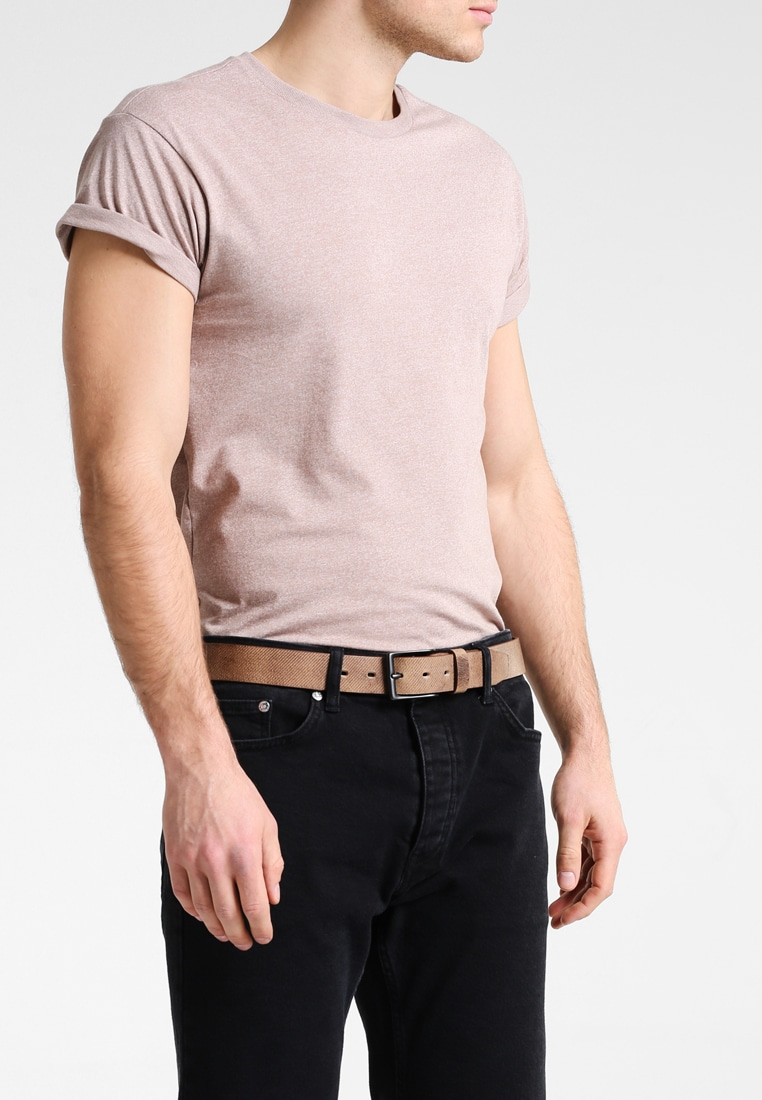C_T-shirt: (53, 40, 538, 646)
F_belt: (201, 621, 563, 721)
F_dress pants: (175, 615, 555, 1100)
